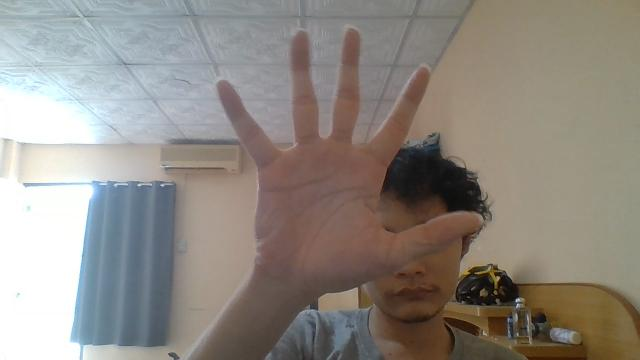Stop: (214, 27, 486, 298)
